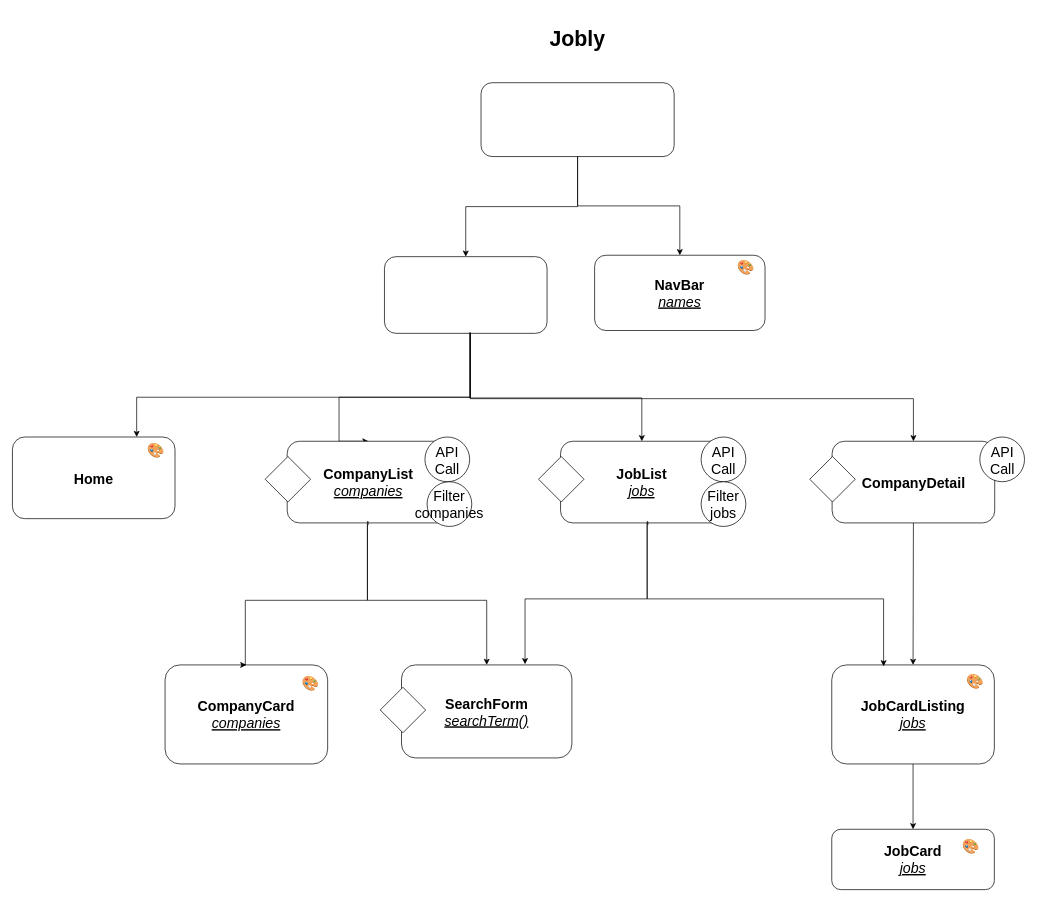
Some shapes in this 1037 by 902 pixel diagram are drawn without their labels. The centre of each missing label's shape, as x and y in pixels:
APP: (x=577, y=119)
companies: (x=287, y=479)
company: (x=832, y=479)
jobs: (x=561, y=479)
Routes: (x=465, y=294)
searchTerm: (x=402, y=710)
